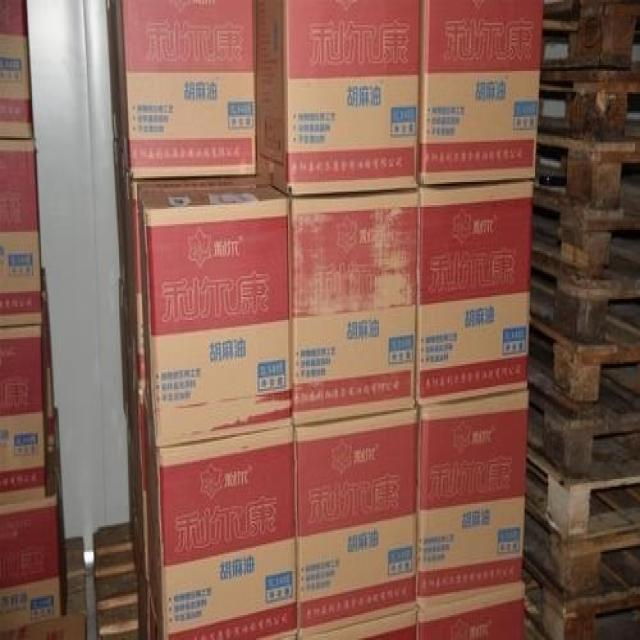box: (140, 184, 292, 448), (259, 0, 420, 194), (288, 190, 417, 427), (156, 425, 297, 638), (292, 410, 417, 636), (416, 180, 531, 408), (416, 393, 529, 611), (120, 0, 256, 180), (420, 0, 544, 188), (0, 491, 60, 636), (0, 138, 45, 326), (0, 326, 45, 508), (416, 588, 525, 640), (0, 0, 33, 140), (300, 609, 417, 640)
